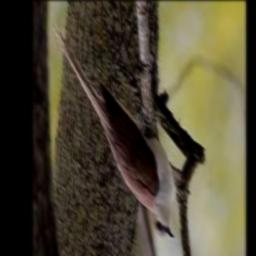Cuckoo: (52, 21, 174, 240)
